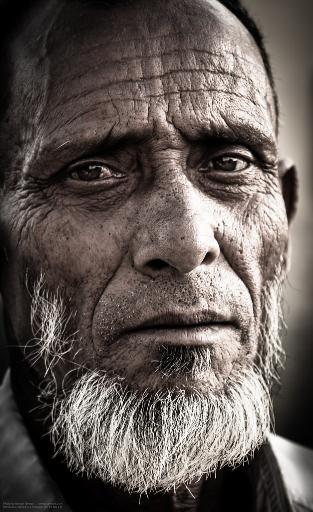left_eye: (196, 149, 260, 178)
left_lip_corner: (219, 311, 241, 338)
right_eye: (56, 157, 126, 189)
right_lip_corner: (119, 318, 149, 346)
